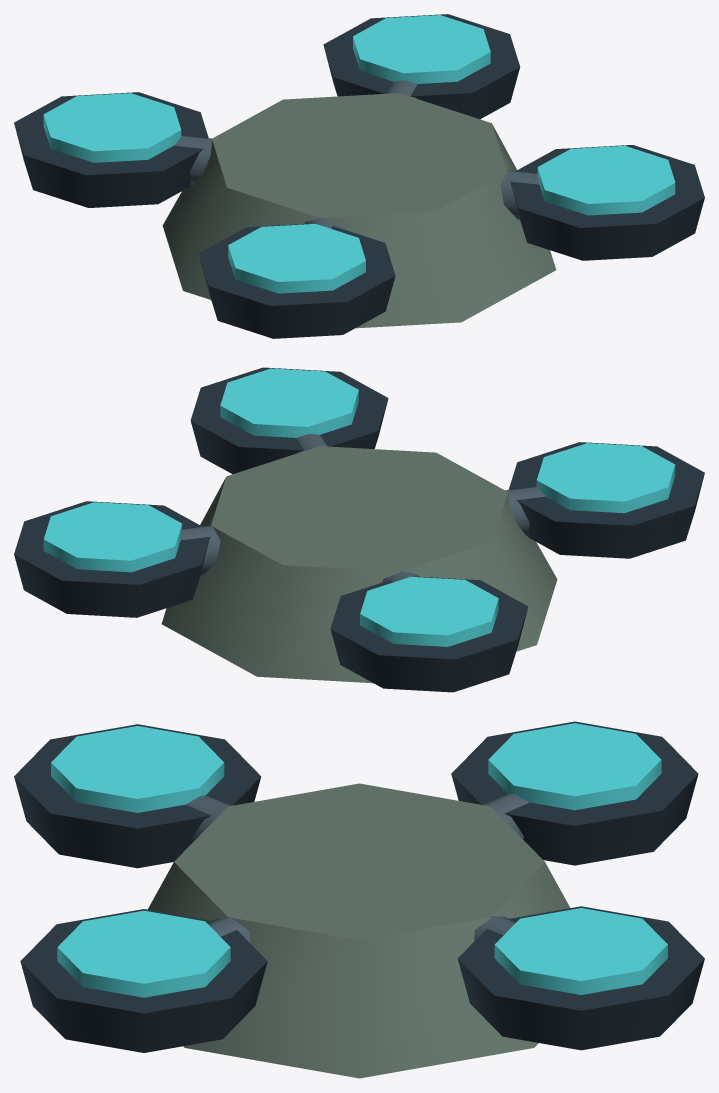
The model's file is unit-drone.glb.
3 renders of one model, top to bottom at view 1: azimuth 30°, elevation 25°; view 2: azimuth 150°, elevation 25°; view 3: azimuth 270°, elevation 25°, orthographic. The views are drawn at different scales.
Parts seen in each view (by area): view 1: unit-drone; view 2: unit-drone; view 3: unit-drone.
Part boxes in pixels (box(x1,y1,x2,y2)): unit-drone: box(14, 14, 704, 338); unit-drone: box(14, 367, 704, 692); unit-drone: box(14, 721, 704, 1078).
Bounding box in the file's own units: 1.12 × 0.2926 × 1.12.
